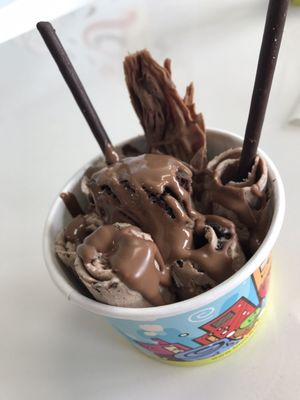burger: (37, 21, 120, 165)
salad: (37, 21, 120, 165)
sushi: (40, 93, 287, 364)
